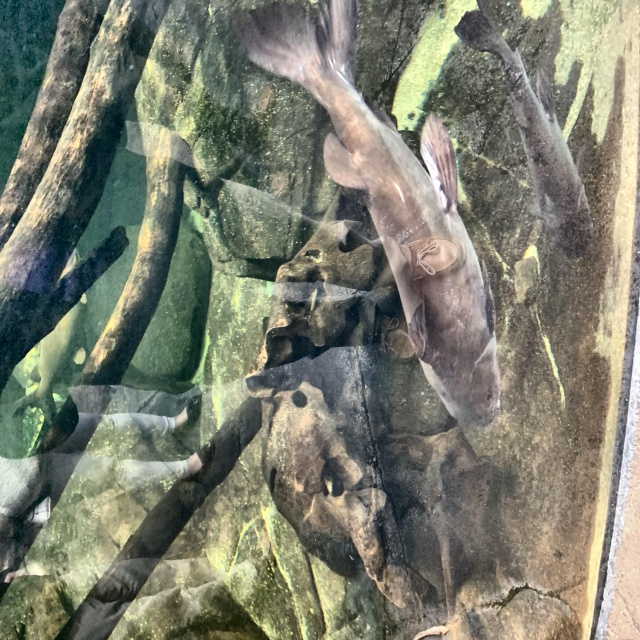fish: (228, 0, 504, 432), (452, 0, 603, 267)
